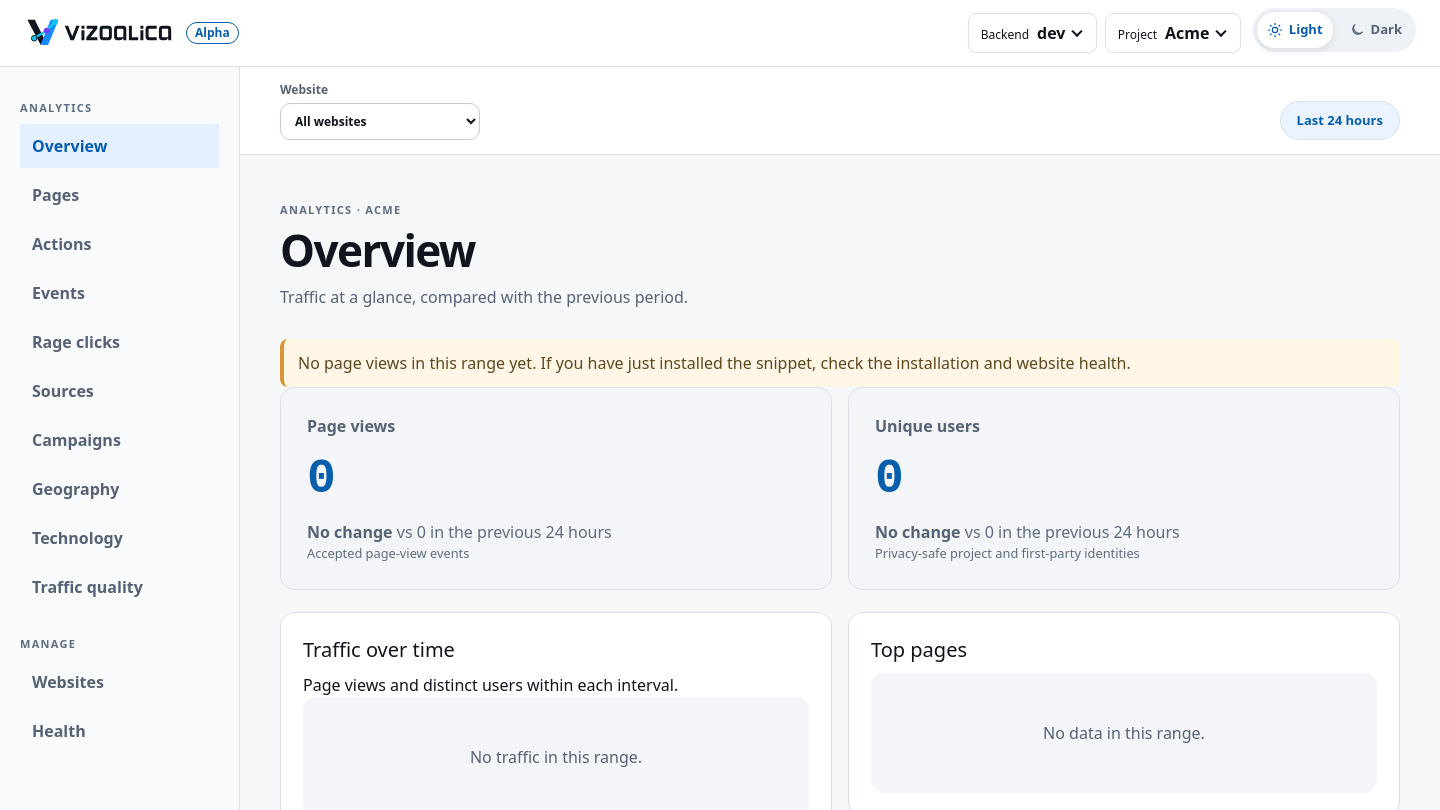
it: analytics overview › names the website in the no-events hint when one is selected
Select "Docs" in the dropdown labelled "Website" at x=380, y=122, box [280, 103, 480, 140]
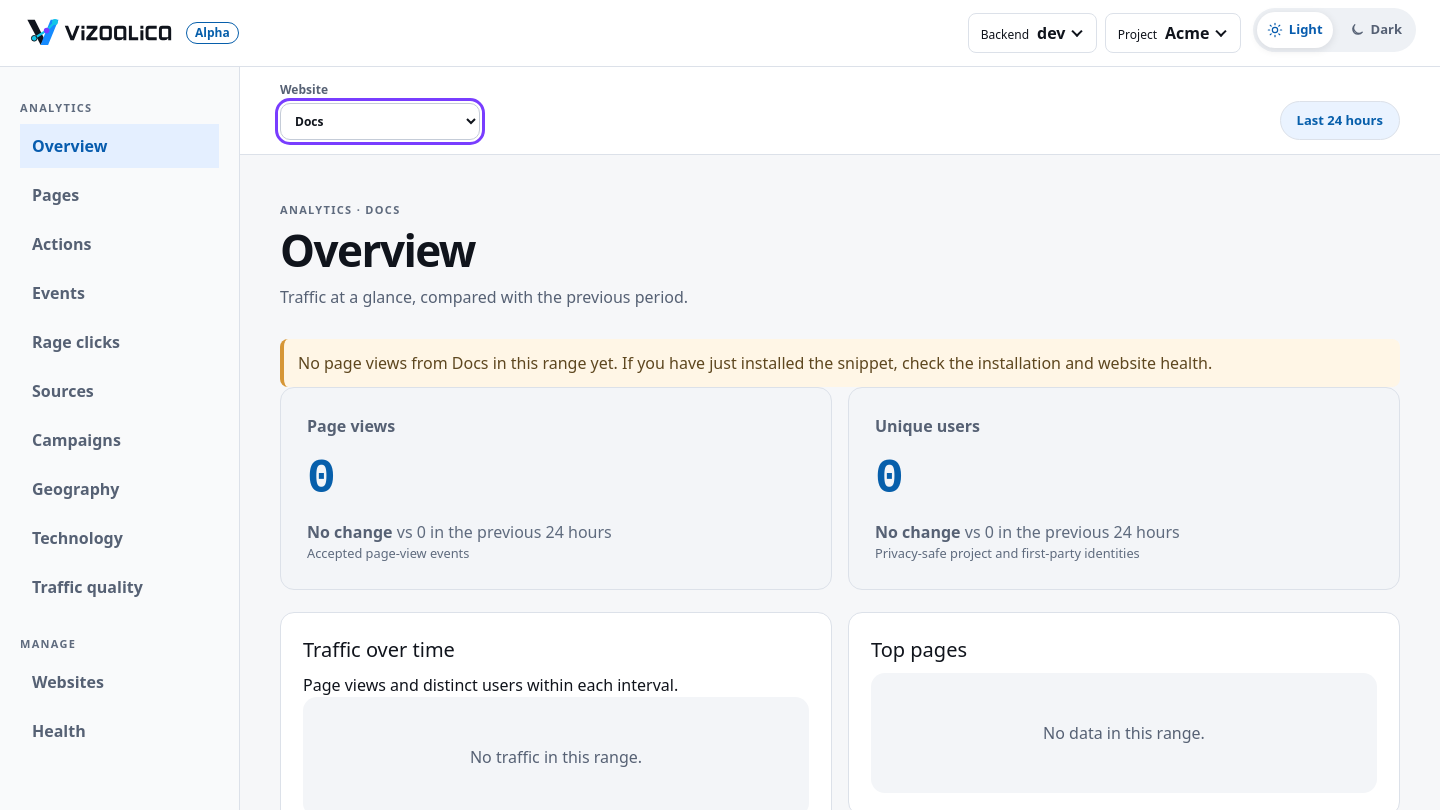
Check: the text "No page views from Docs in this range yet" is shown, box [298, 352, 622, 374]
